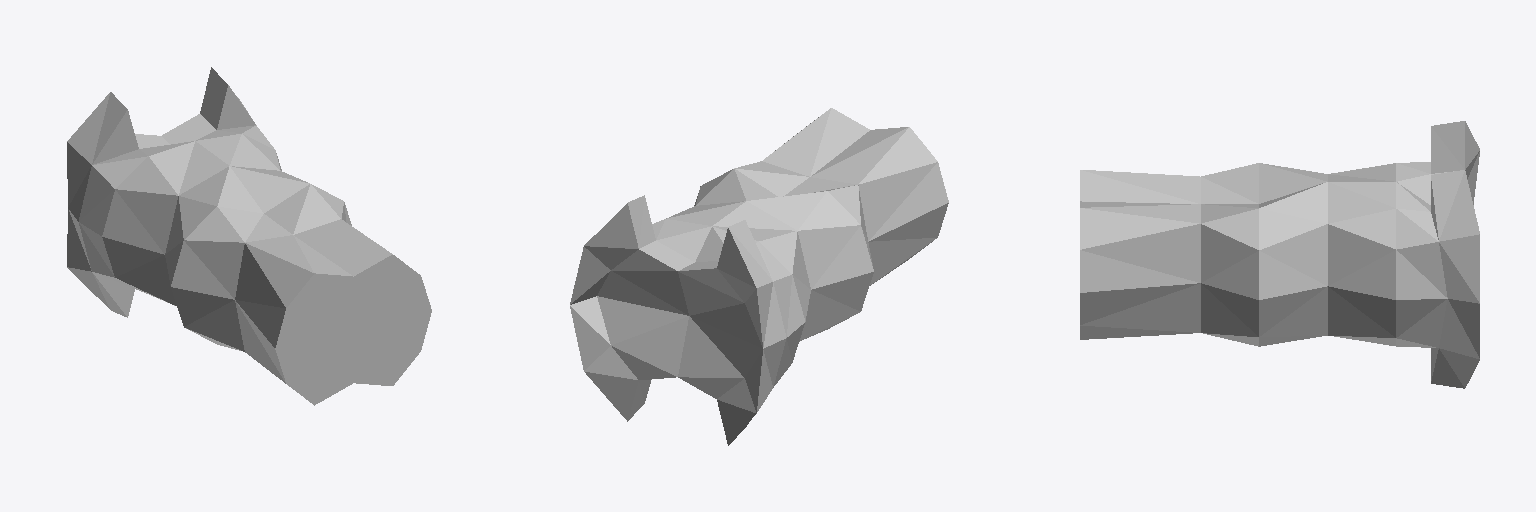
Rendered from granade-launcher-0.obj.
3 views of the same model, side by side, from view 1: azimuth 30°, elevation 25°; view 2: azimuth 150°, elevation 25°; view 3: azimuth 270°, elevation 25° (orthographic).
Visible parts, largest first — view 1: Cylinder_Cylinder.001; view 2: Cylinder_Cylinder.001; view 3: Cylinder_Cylinder.001.
Boxes of the visible parts, box(x1,y1,x2,y2) form: Cylinder_Cylinder.001: box(67, 67, 431, 405); Cylinder_Cylinder.001: box(570, 108, 948, 445); Cylinder_Cylinder.001: box(1080, 121, 1479, 388).
Size of the model in its own units: 0.4821 by 0.5145 by 0.8528.